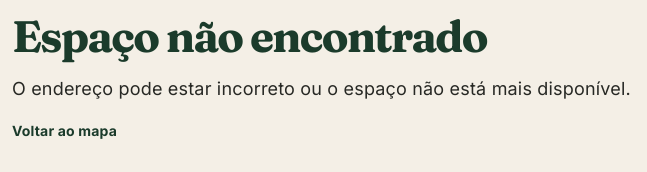
Test: página Lugar › mostra "Espaço não encontrado" para 404, com link de volta ao mapa
Check: the heading "Espaço não encontrado" is shown, box [12,12,487,60]
What coordinates should you click on to do the following:
click the link "Voltar ao mapa"
I would click on:
 (65, 132)
Its box is [12,118,117,145].
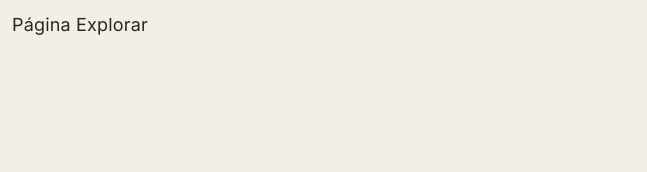
Check: the text "Página Explorar" is shown, box [12,14,148,35]
